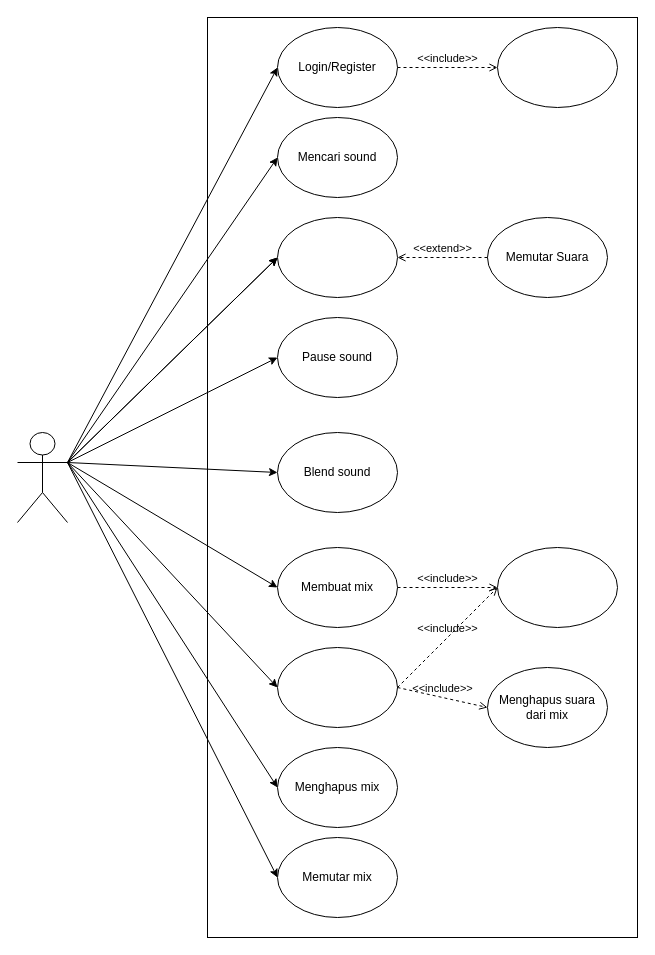
The diagram is 655 pixels wide and 955 high, and some of its shapes have lost their labels. The shapes that lost their labels are listed below. From the top down, each one's centre as x and y in pixels, then its label:
the point at 557,67: Melihat List mix
the point at 337,257: Mengatur volume sound
the point at 42,477: User
the point at 557,587: Menambah suara ke mix
the point at 337,687: Mengedit mix
